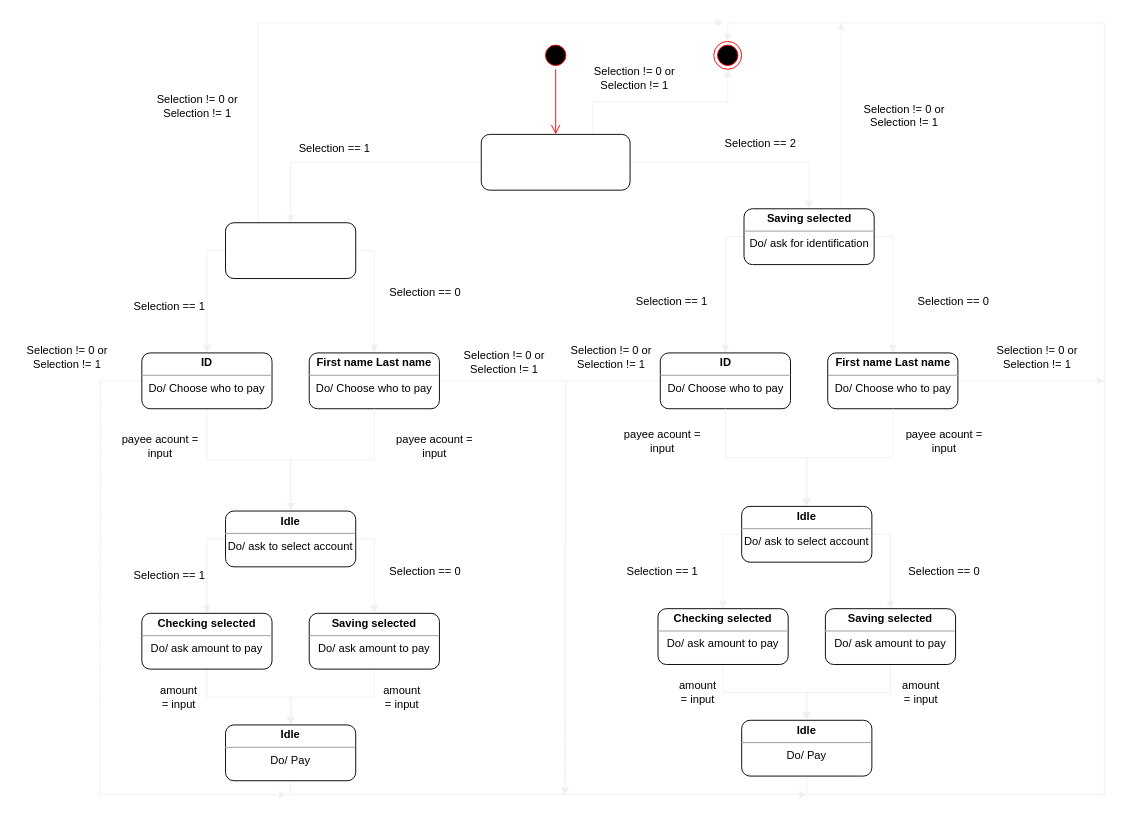
Some shapes in this 1128 by 818 pixel diagram are drawn without their labels. Each missing label, with the centre of its shape:
"Checking selected Do/ ask for Identification" goes at (290,250).
"Idle Do/ Ask checking or savings" goes at (555,161).
